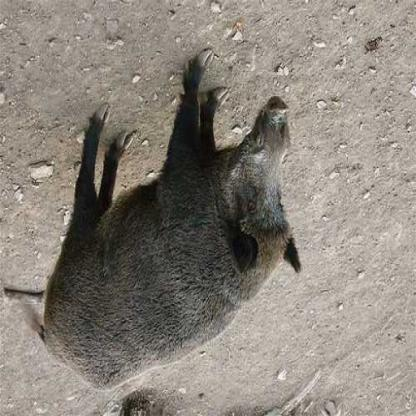boar: (29, 51, 329, 416)
